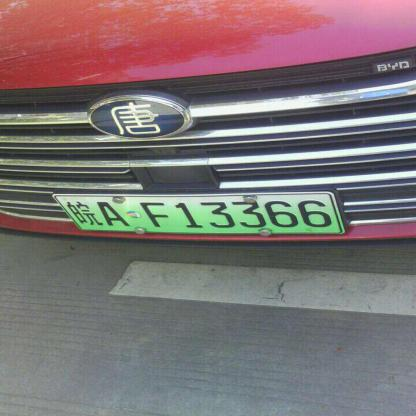lp: (56, 195, 82, 231)
